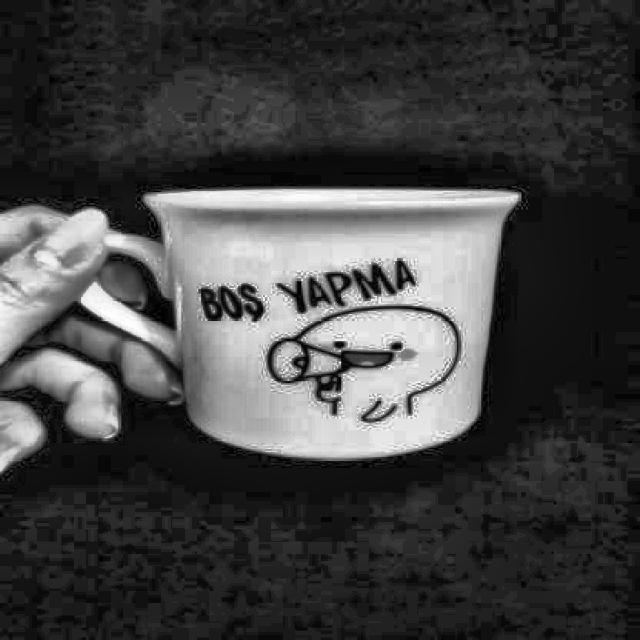Mug: (71, 185, 520, 470)
